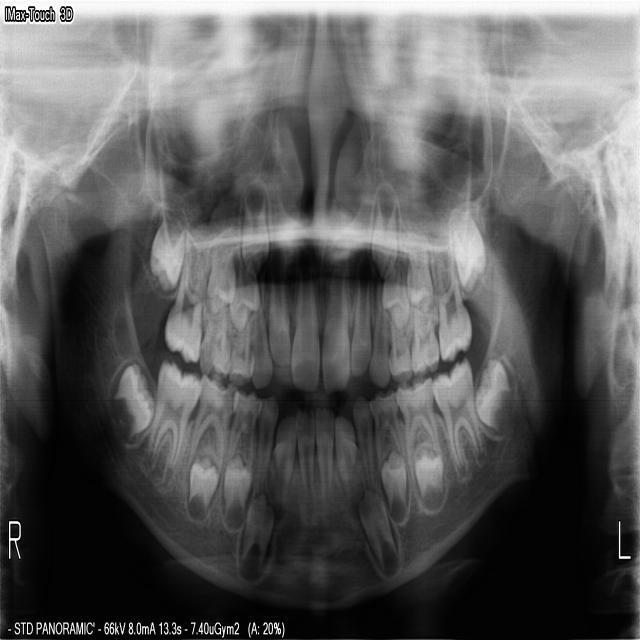LID: (312, 402, 334, 517)
LIU: (318, 264, 350, 394), (349, 266, 371, 378)
LMD: (432, 354, 483, 478), (394, 370, 441, 504), (472, 356, 513, 433)
LMU: (431, 248, 475, 364), (449, 202, 486, 293)
RID: (292, 404, 314, 518)
RIU: (288, 261, 319, 397), (267, 266, 289, 366)
RMD: (145, 354, 202, 484), (181, 372, 238, 484), (110, 362, 154, 441)
RMU: (161, 261, 206, 363), (145, 216, 185, 293)
